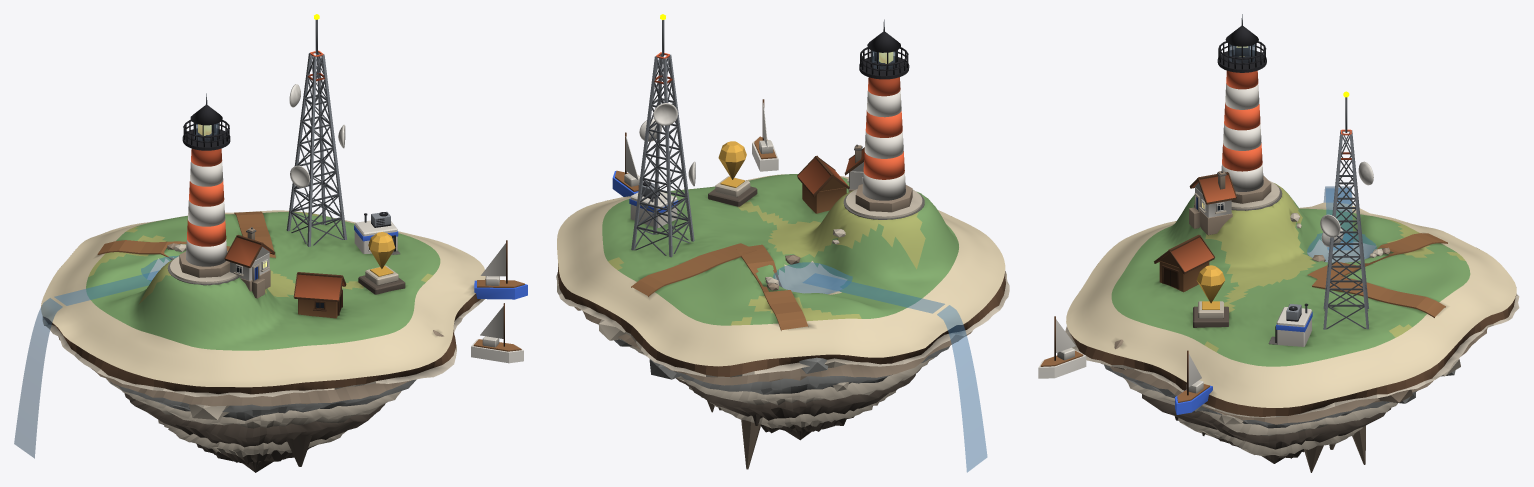
File: contact.glb
The picture shows the model from 3 angles, left to right: view 1: azimuth 30°, elevation 25°; view 2: azimuth 150°, elevation 25°; view 3: azimuth 270°, elevation 25°; orthographic projection. The views are drawn at different scales.
Visible parts, largest first — view 1: terrain, foundation, buildings, waterfall_0, props, anim_bob_boat1, anim_bob_boat0, water_channel0, landmarks, anim_spin_monument_gem; view 2: terrain, foundation, buildings, waterfall_0, water_pond0, water_channel0, props, anim_bob_boat0, anim_bob_boat1, landmarks, anim_spin_monument_gem; view 3: terrain, buildings, foundation, props, anim_bob_boat0, anim_bob_boat1, water_pond0, landmarks, water_channel0, anim_spin_monument_gem.
Boxes of the visible parts, x1,y1,x2,y2 form: terrain: [41, 210, 485, 387]; foundation: [42, 279, 485, 472]; buildings: [179, 19, 405, 318]; waterfall_0: [14, 298, 62, 458]; props: [167, 14, 395, 315]; anim_bob_boat1: [474, 240, 527, 299]; anim_bob_boat0: [471, 303, 523, 363]; water_channel0: [54, 271, 158, 305]; landmarks: [289, 84, 345, 187]; anim_spin_monument_gem: [368, 232, 395, 268]; terrain: [557, 174, 1005, 366]; foundation: [556, 263, 1009, 469]; buildings: [629, 19, 912, 257]; waterfall_0: [937, 305, 987, 472]; water_pond0: [773, 262, 852, 294]; water_channel0: [803, 273, 944, 313]; props: [638, 14, 908, 290]; anim_bob_boat0: [752, 99, 778, 171]; anim_bob_boat1: [612, 132, 639, 196]; landmarks: [639, 103, 695, 186]; anim_spin_monument_gem: [718, 141, 746, 179]; terrain: [1066, 180, 1516, 407]; buildings: [1158, 14, 1368, 346]; foundation: [1065, 294, 1519, 472]; props: [1154, 41, 1390, 342]; anim_bob_boat0: [1038, 316, 1086, 378]; anim_bob_boat1: [1175, 350, 1212, 414]; water_pond0: [1307, 233, 1376, 262]; landmarks: [1320, 161, 1373, 246]; water_channel0: [1325, 188, 1352, 249]; anim_spin_monument_gem: [1196, 265, 1225, 303].
Size of the model in its own units: 17.45 by 16.07 by 16.65.
